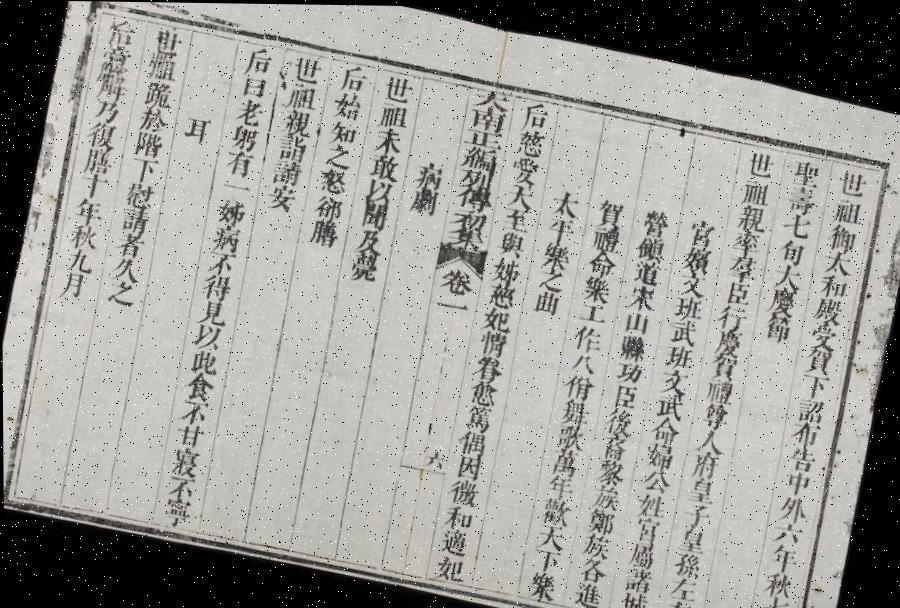c: (522, 566, 561, 602), (436, 263, 476, 298), (344, 248, 382, 284), (166, 443, 204, 479), (100, 14, 140, 48), (445, 204, 491, 233), (96, 42, 134, 77), (288, 51, 325, 86), (568, 319, 605, 354), (541, 210, 579, 244), (142, 50, 180, 84), (536, 492, 574, 526), (444, 474, 482, 508), (536, 238, 574, 272), (451, 182, 494, 212), (272, 131, 311, 164), (241, 42, 276, 78), (774, 490, 811, 524), (781, 181, 818, 215), (379, 70, 416, 104), (82, 118, 120, 151), (282, 80, 320, 113), (90, 72, 129, 104), (467, 102, 508, 132), (458, 142, 499, 172), (158, 494, 194, 528), (546, 443, 582, 477), (517, 97, 553, 131), (212, 194, 248, 228), (328, 88, 364, 122), (833, 165, 870, 198), (138, 78, 175, 111), (822, 220, 859, 253), (759, 308, 794, 342), (591, 194, 626, 228), (764, 539, 800, 572), (180, 370, 216, 403), (74, 168, 110, 201), (69, 194, 105, 227), (65, 220, 101, 253), (268, 156, 304, 189), (305, 215, 341, 248), (430, 551, 467, 583), (828, 194, 865, 226), (809, 292, 846, 324), (631, 488, 668, 520), (548, 184, 582, 218), (638, 203, 672, 237), (673, 521, 709, 553), (628, 513, 664, 545), (759, 566, 795, 598), (434, 524, 470, 556), (732, 200, 768, 232), (640, 438, 676, 470), (116, 204, 152, 236), (787, 155, 823, 187), (230, 96, 266, 128), (262, 182, 298, 214), (555, 395, 591, 427), (374, 99, 410, 131), (512, 126, 548, 158), (369, 124, 405, 156), (622, 280, 658, 312), (559, 368, 595, 400), (278, 106, 314, 138), (577, 272, 613, 304), (777, 208, 814, 239), (444, 224, 486, 251), (507, 152, 541, 185), (336, 60, 370, 93), (724, 250, 759, 282), (583, 504, 618, 536), (769, 258, 804, 290), (678, 241, 713, 273), (411, 158, 446, 190), (366, 150, 401, 182), (462, 124, 505, 150), (194, 296, 230, 327), (686, 447, 722, 478), (532, 520, 568, 551), (664, 314, 700, 345), (314, 165, 350, 196), (207, 222, 243, 253), (430, 292, 472, 318), (55, 268, 89, 300), (150, 24, 184, 56), (614, 330, 648, 362), (743, 146, 777, 178), (199, 270, 233, 302), (710, 324, 744, 356), (406, 185, 440, 217), (190, 321, 225, 352), (120, 179, 155, 210), (646, 413, 681, 444), (655, 365, 690, 396), (79, 145, 114, 176), (588, 221, 623, 252), (471, 85, 511, 112), (636, 463, 672, 493), (668, 548, 704, 578), (577, 530, 613, 560), (632, 232, 668, 262), (818, 246, 854, 276), (582, 247, 618, 277), (728, 226, 764, 256), (134, 105, 170, 135), (668, 290, 704, 320), (468, 352, 504, 382), (439, 501, 476, 530), (768, 516, 806, 544), (684, 214, 717, 246), (784, 440, 818, 471), (683, 473, 717, 504), (738, 175, 772, 206), (764, 283, 798, 314), (226, 122, 260, 153), (678, 498, 713, 528), (103, 278, 138, 308), (800, 344, 835, 374), (792, 393, 827, 423), (111, 230, 146, 260), (619, 563, 654, 593), (569, 578, 604, 608), (588, 480, 623, 510), (714, 300, 749, 330), (551, 420, 586, 450), (591, 455, 626, 485), (130, 129, 165, 159), (465, 378, 500, 408), (660, 340, 695, 370), (180, 112, 212, 144), (602, 404, 635, 435), (461, 401, 494, 432), (488, 254, 521, 285), (176, 396, 210, 426), (186, 346, 220, 376), (697, 399, 731, 429), (806, 318, 840, 348), (108, 254, 142, 284), (61, 246, 95, 276), (126, 154, 160, 184), (222, 148, 256, 178), (502, 180, 536, 210), (324, 116, 358, 146), (484, 280, 518, 310), (310, 192, 344, 222), (796, 370, 832, 398), (814, 270, 850, 298), (88, 96, 124, 124), (706, 350, 739, 380), (575, 554, 608, 584), (597, 430, 630, 460), (455, 426, 488, 456), (475, 327, 508, 357), (692, 425, 726, 454), (701, 375, 735, 404), (623, 539, 657, 568), (664, 573, 699, 601), (163, 472, 198, 500), (788, 418, 823, 446), (542, 470, 577, 498), (478, 304, 513, 332), (455, 165, 495, 189), (352, 226, 384, 256), (775, 234, 807, 264), (494, 228, 526, 258), (321, 141, 354, 170), (629, 256, 662, 285), (172, 420, 206, 448), (498, 204, 532, 232), (674, 268, 708, 296), (652, 390, 686, 418), (452, 450, 483, 480), (609, 379, 640, 409), (780, 465, 812, 494), (362, 176, 394, 205), (721, 276, 753, 305), (611, 356, 645, 383), (358, 200, 388, 230), (530, 287, 561, 316), (204, 248, 236, 276), (620, 308, 652, 336), (529, 545, 562, 572), (534, 265, 566, 292), (237, 73, 269, 100), (612, 586, 651, 608), (575, 299, 608, 324), (567, 350, 598, 375), (218, 176, 252, 197), (756, 591, 792, 608), (421, 447, 446, 469), (658, 595, 694, 608)
